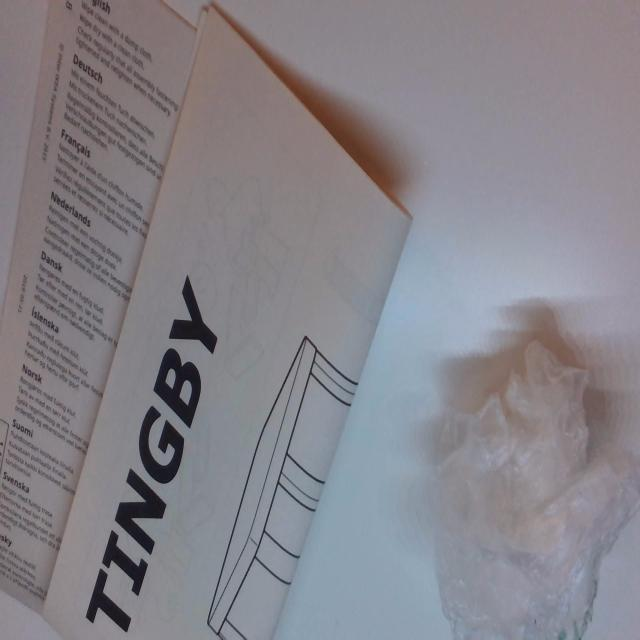Paper: (0, 0, 418, 640)
